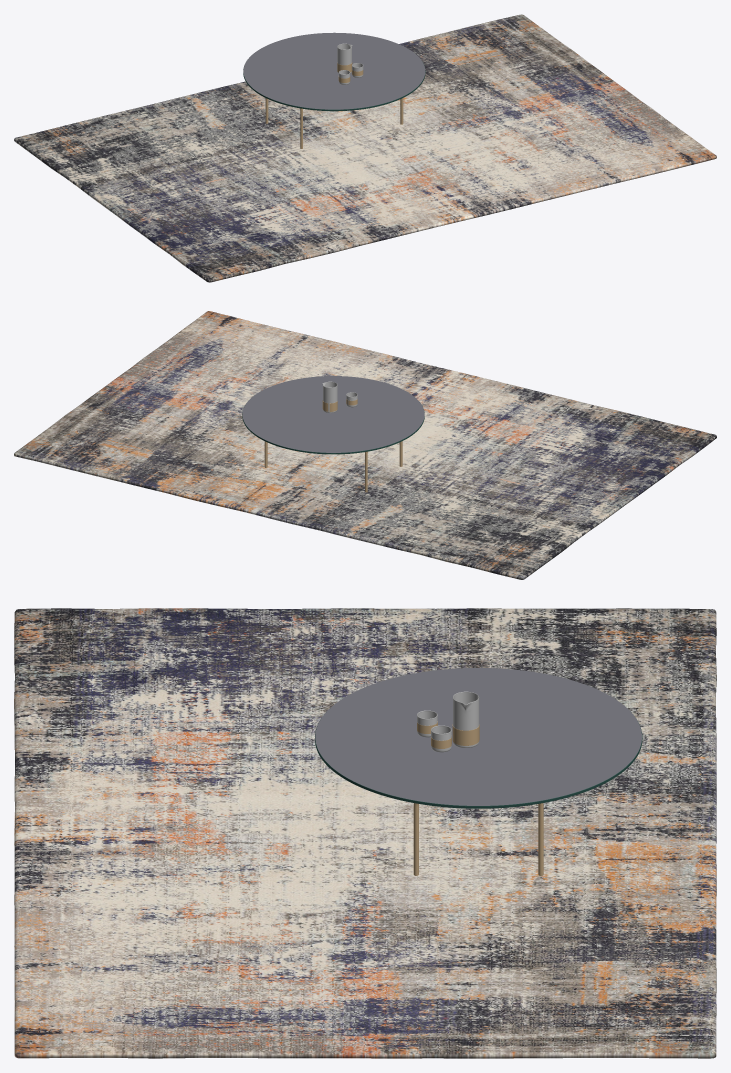
Rendered from livingtable.glb.
The picture shows the model from 3 angles, top to bottom: view 1: azimuth 30°, elevation 25°; view 2: azimuth 150°, elevation 25°; view 3: azimuth 270°, elevation 25°; orthographic projection. The views are drawn at different scales.
Visible parts, largest first — view 1: Carpet; view 2: Carpet; view 3: Carpet.
Boxes of the visible parts, box(x1,y1,x2,y2) form: Carpet: box(14, 14, 716, 282); Carpet: box(14, 311, 716, 579); Carpet: box(14, 608, 716, 1058).
Size of the model in its own units: 3.56 by 0.5378 by 2.36.
Materials: 5 (1 with a texture image).
